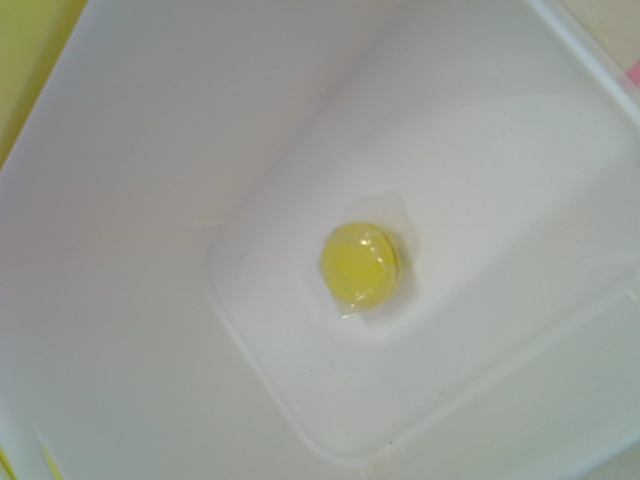씨앗: (318, 220, 402, 310)
